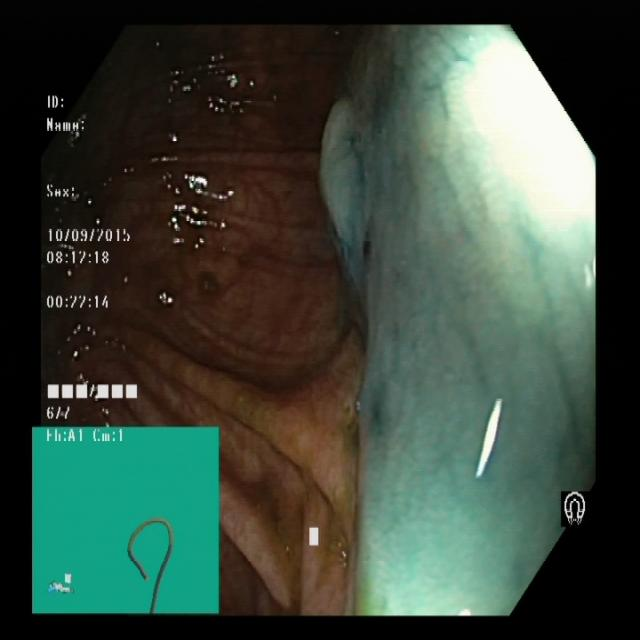dyed-lifted-polyps: (307, 89, 377, 273)
